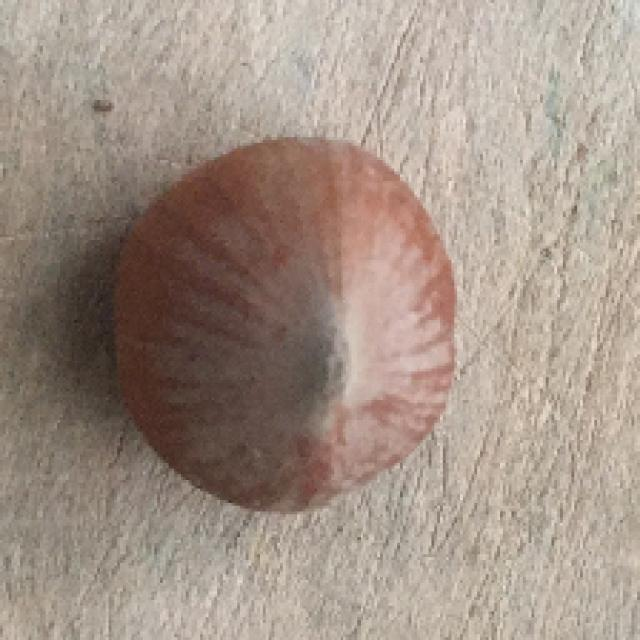QualityHazelnut: (107, 139, 458, 514)
